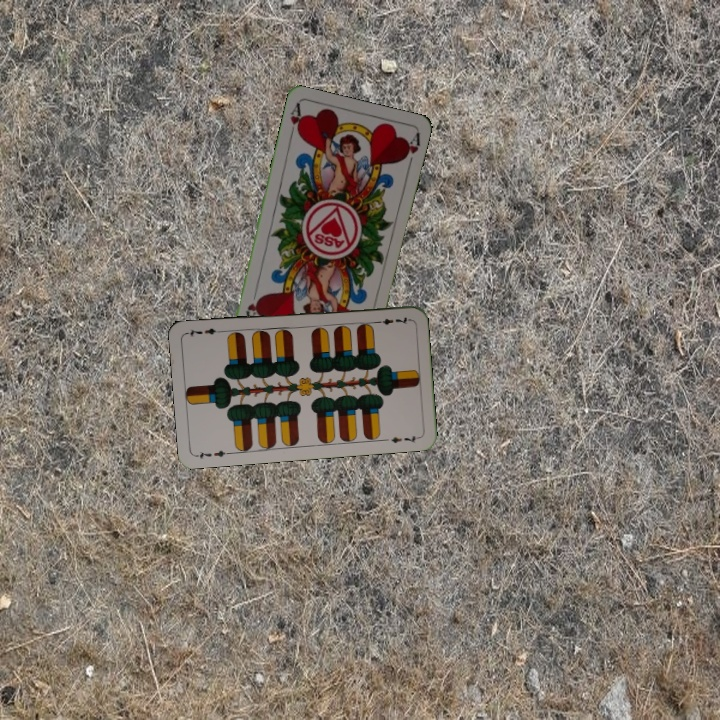E7: (193, 446, 233, 462), (371, 313, 412, 328)
HA: (286, 100, 306, 140)
